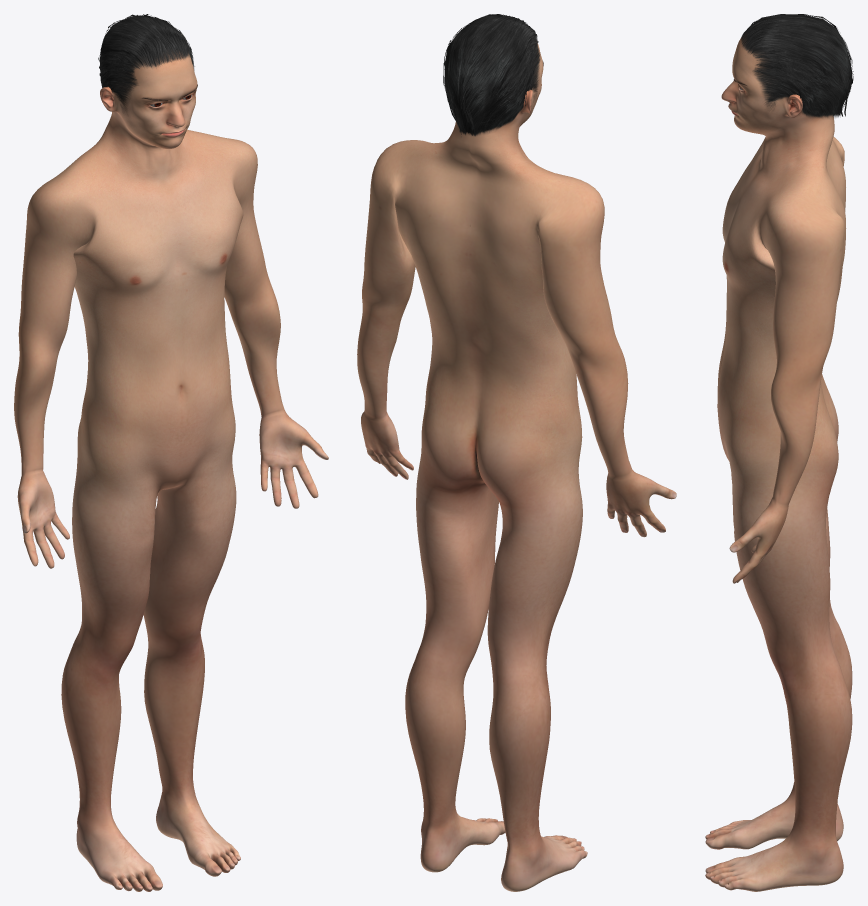
The model's file is skin-fitted-web.glb.
The picture shows the model from 3 angles, left to right: view 1: azimuth 30°, elevation 25°; view 2: azimuth 150°, elevation 25°; view 3: azimuth 270°, elevation 25°; orthographic projection.
Parts seen in each view (by area): view 1: Male skin, short04; view 2: Male skin, short04; view 3: Male skin, short04.
Part boxes in pixels (bbox=[...]): Male skin: bbox=[14, 52, 328, 891]; short04: bbox=[98, 14, 194, 112]; Male skin: bbox=[357, 43, 676, 891]; short04: bbox=[443, 14, 540, 136]; Male skin: bbox=[705, 36, 852, 891]; short04: bbox=[741, 14, 853, 118].
Size of the model in its own units: 0.6555 by 1.72 by 0.273.
4 materials, 4 textured.
